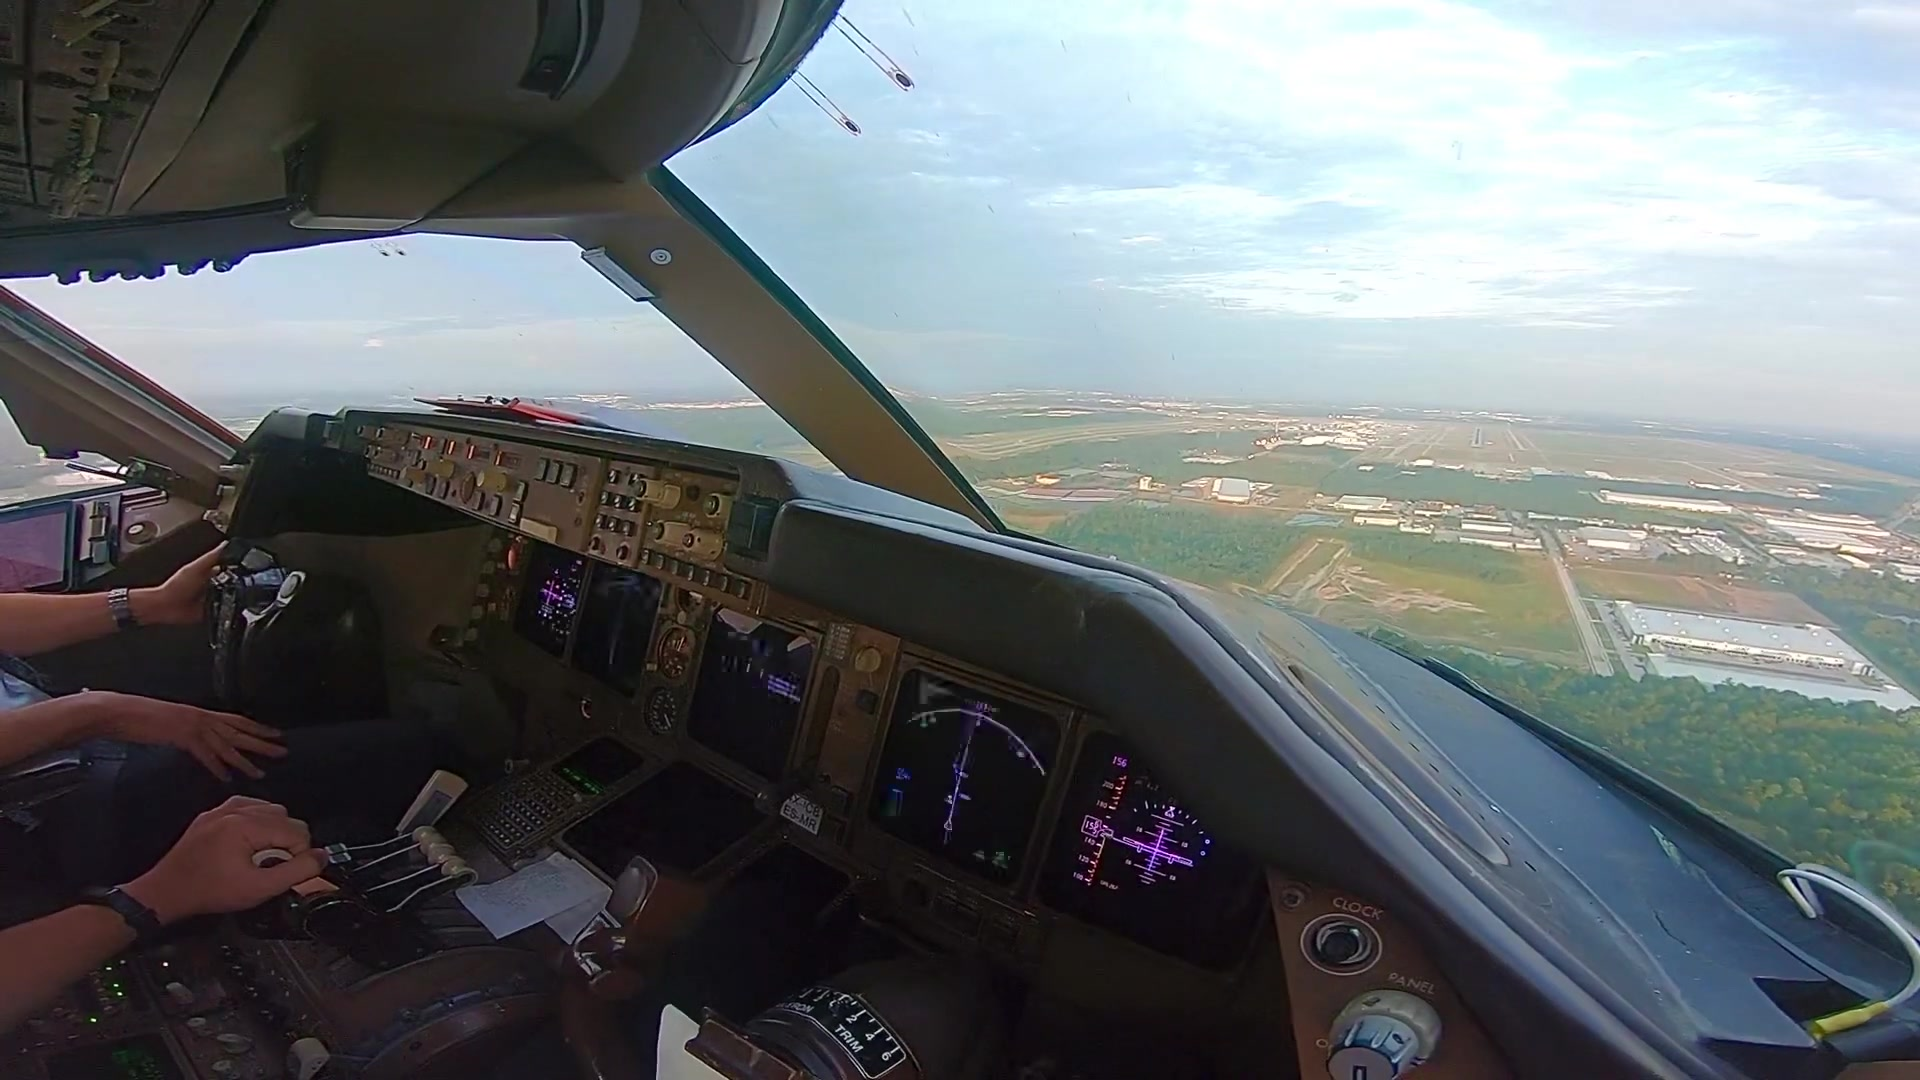runway: (1469, 426, 1484, 447)
